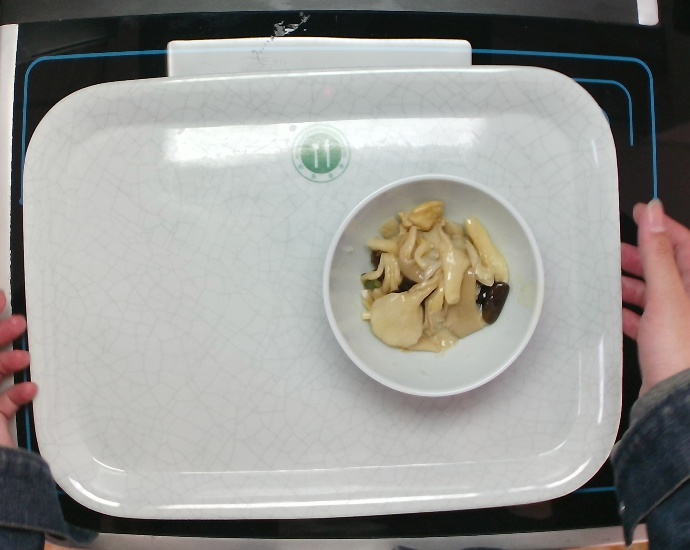JYsf-Fan_Wan: (321, 169, 546, 402)
